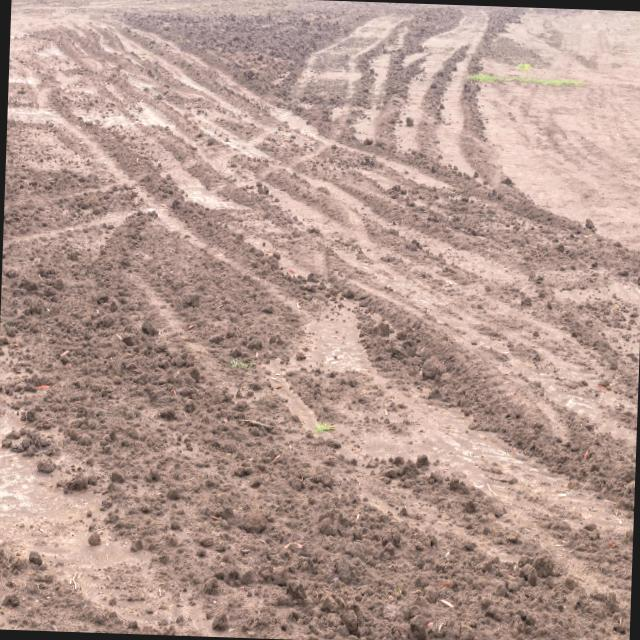suelo_humedo: (81, 43, 586, 576)
